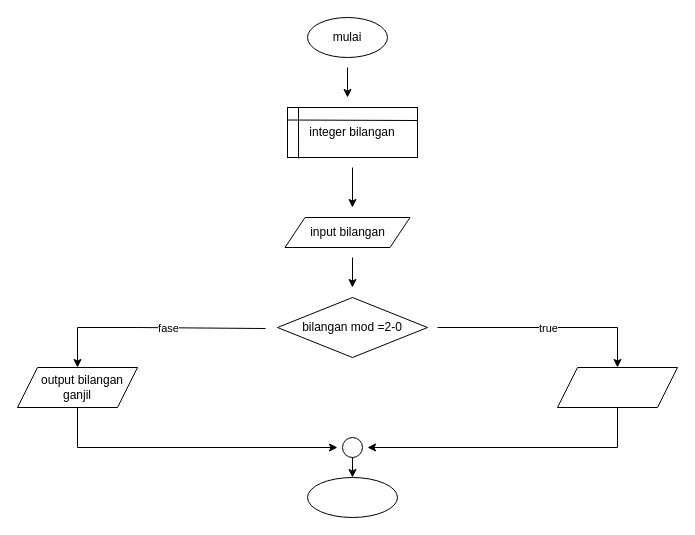
The diagram is 695 pixels wide and 535 high, and some of its shapes have lost their labels. Here are the shapes that lost their labels. From the top down, the box of each, then its label:
(556, 366, 678, 408): output bilangan genap
(306, 476, 398, 518): selesai
